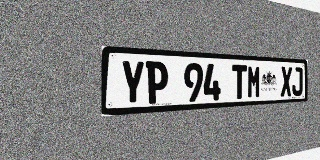4: (203, 63, 221, 101)
9: (184, 63, 203, 102)
J: (292, 67, 303, 96)
M: (247, 65, 261, 99)
P: (146, 61, 168, 104)
T: (232, 65, 247, 99)
X: (281, 67, 292, 97)
Y: (120, 60, 145, 105)
